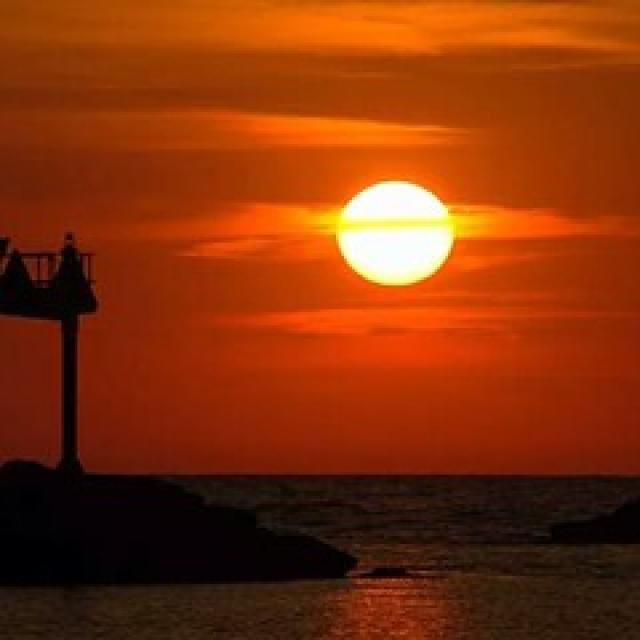sun: (290, 142, 488, 330)
